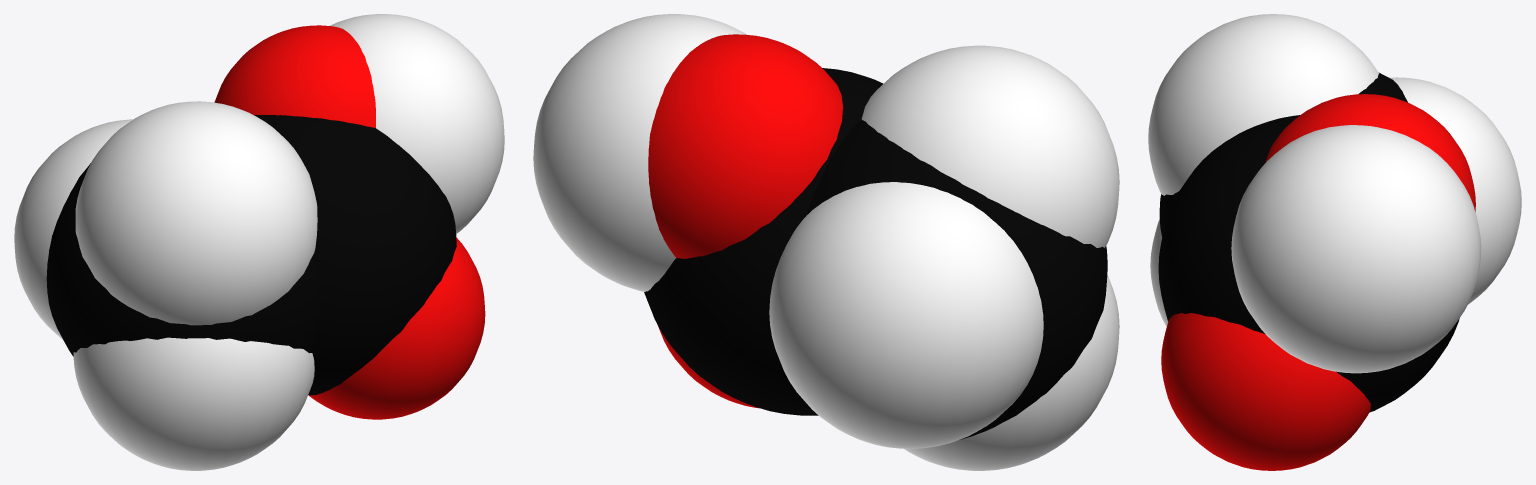
The model's file is acidoacetico.obj.
3 renders of one model, left to right at view 1: azimuth 30°, elevation 25°; view 2: azimuth 150°, elevation 25°; view 3: azimuth 270°, elevation 25°, orthographic. The views are drawn at different scales.
Visible parts, largest first — view 1: Hydrogen_ball, Carbon_ball, Oxygen_ball; view 2: Hydrogen_ball, Carbon_ball, Oxygen_ball; view 3: Hydrogen_ball, Oxygen_ball, Carbon_ball.
Boxes of the visible parts, x1,y1,x2,y2 form: Hydrogen_ball: [14, 14, 504, 470]; Carbon_ball: [46, 115, 456, 395]; Oxygen_ball: [214, 25, 485, 419]; Hydrogen_ball: [533, 14, 1119, 470]; Carbon_ball: [644, 68, 1107, 439]; Oxygen_ball: [648, 34, 842, 408]; Hydrogen_ball: [1148, 14, 1521, 373]; Oxygen_ball: [1161, 94, 1475, 470]; Carbon_ball: [1158, 72, 1459, 412].
Size of the model in its own units: 3.07 by 2.32 by 2.19.
